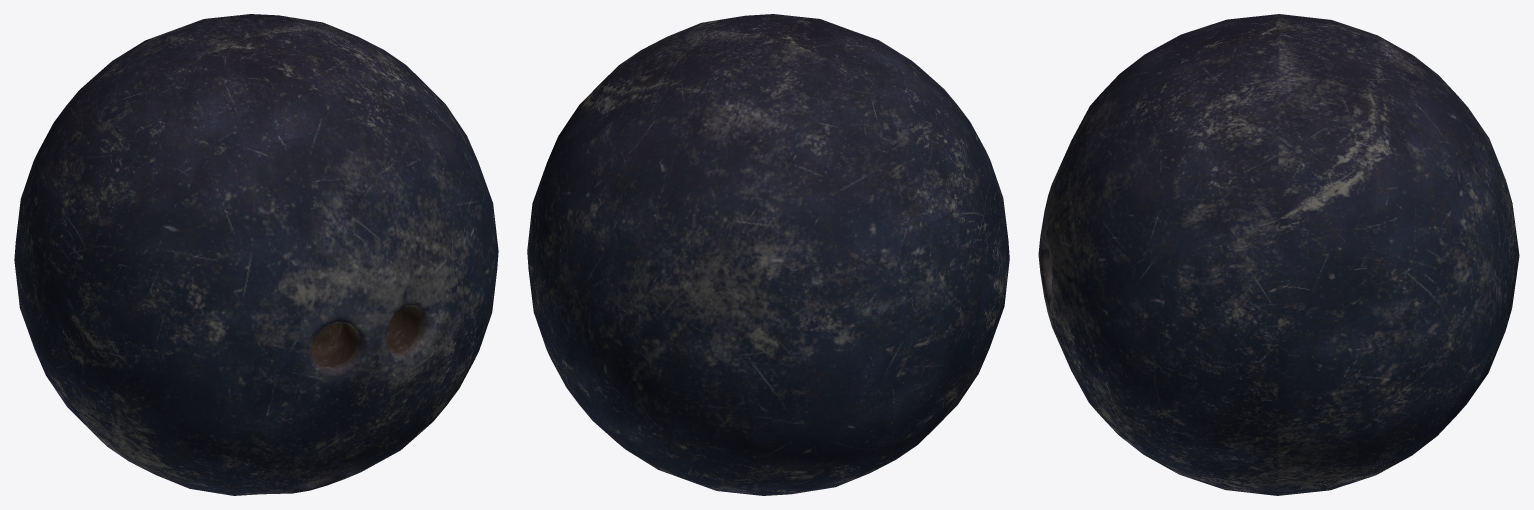
File: bowling_ball.glb
3 renders of one model, left to right at view 1: azimuth 30°, elevation 25°; view 2: azimuth 150°, elevation 25°; view 3: azimuth 270°, elevation 25°, orthographic.
Parts seen in each view (by area): view 1: g; view 2: g; view 3: g.
Part boxes in pixels (x1,y1,x2,y2): g: (14, 14, 498, 495); g: (527, 14, 1009, 495); g: (1038, 14, 1519, 495).
Size of the model in its own units: 2 by 2 by 2.
1 material, 1 textured.
